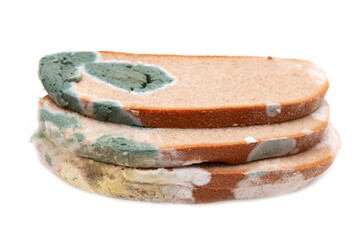mold_bread: (32, 43, 90, 106), (94, 60, 179, 96), (123, 168, 210, 203), (235, 166, 317, 197), (87, 133, 162, 165), (30, 111, 83, 149), (245, 135, 298, 162), (92, 101, 141, 127), (263, 101, 283, 118)
